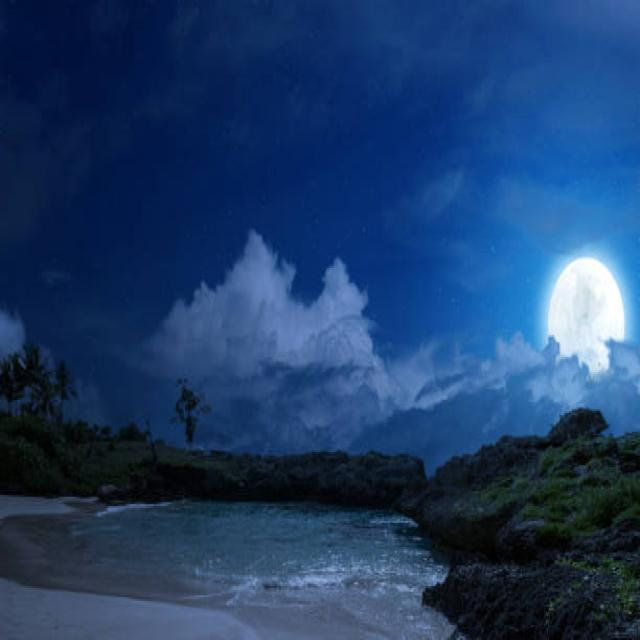moon: (545, 258, 626, 384)
